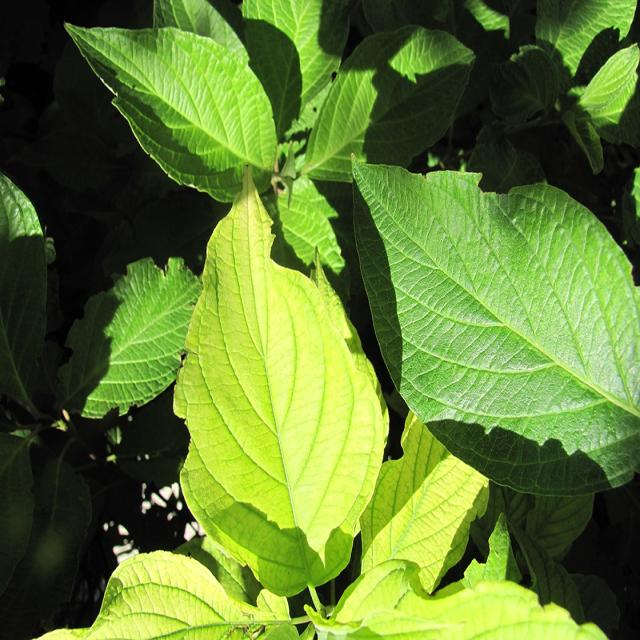Chlorosis: (80, 38, 552, 620)
